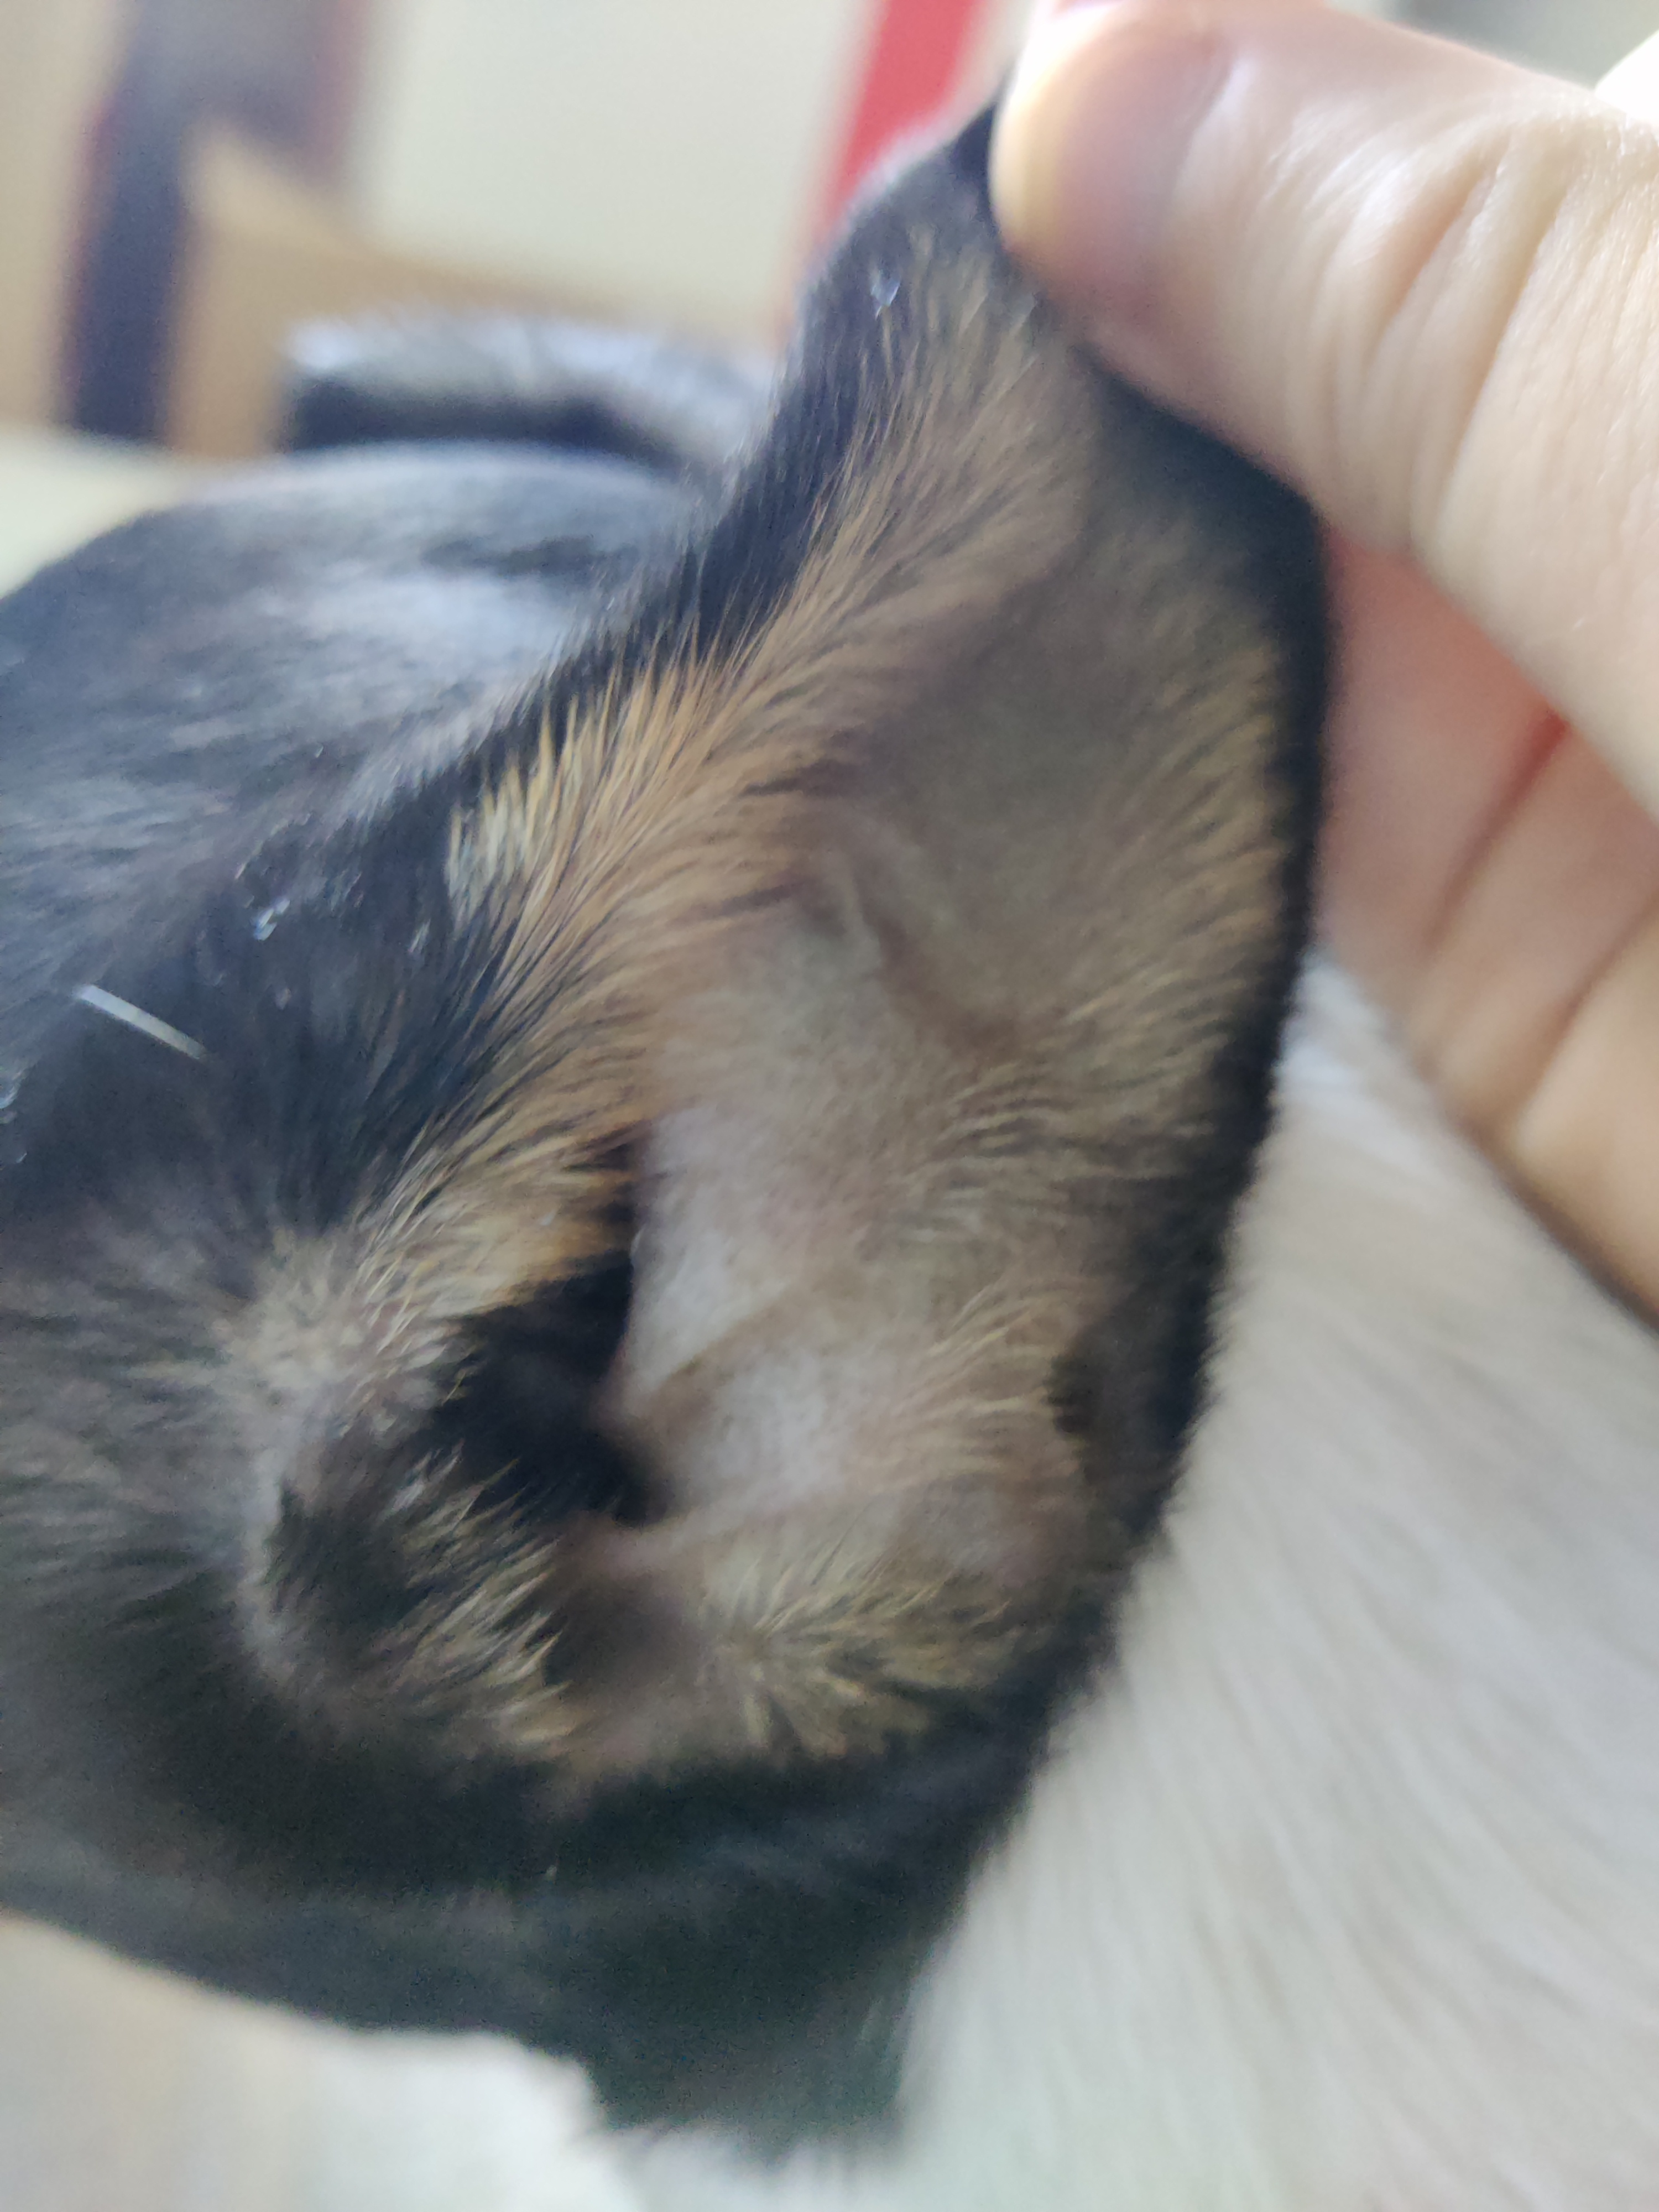Dog: (0, 37, 1659, 2212)
